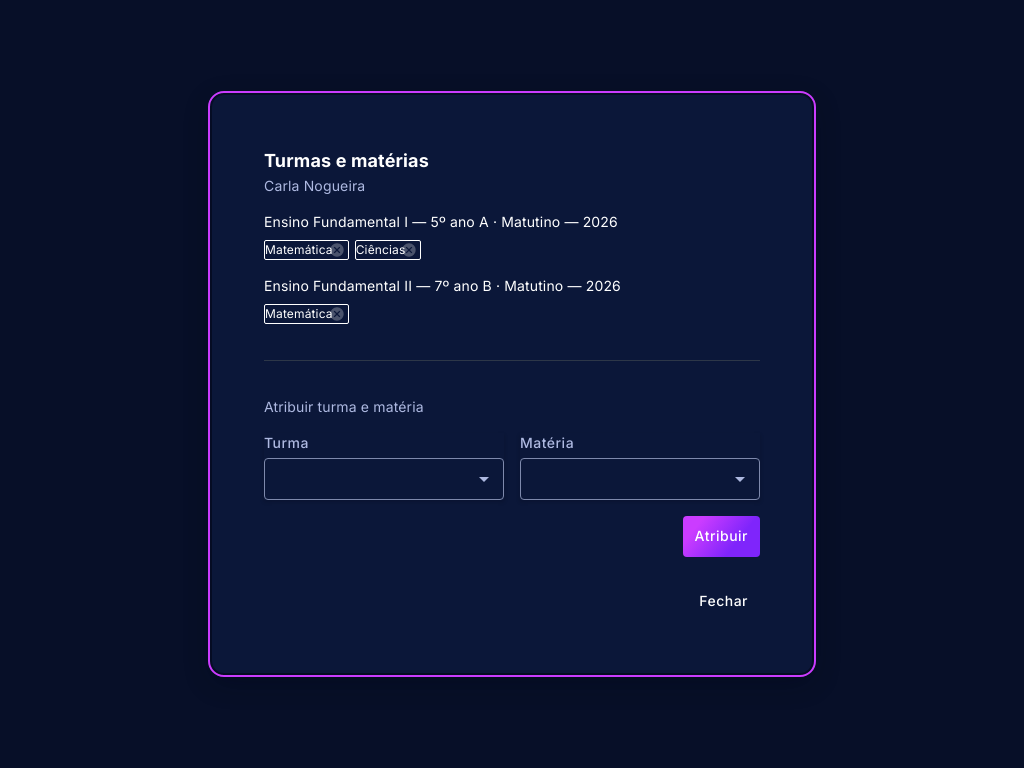
it: TeacherAssignmentsDialog › removes a subject and drops the class once it holds none
// 7º ano B holds a single subject, so removing it removes the class from the list.
Click the 3rd icon with test id "CancelIcon": (337, 314) top-left (329, 306), bottom-right (345, 322)
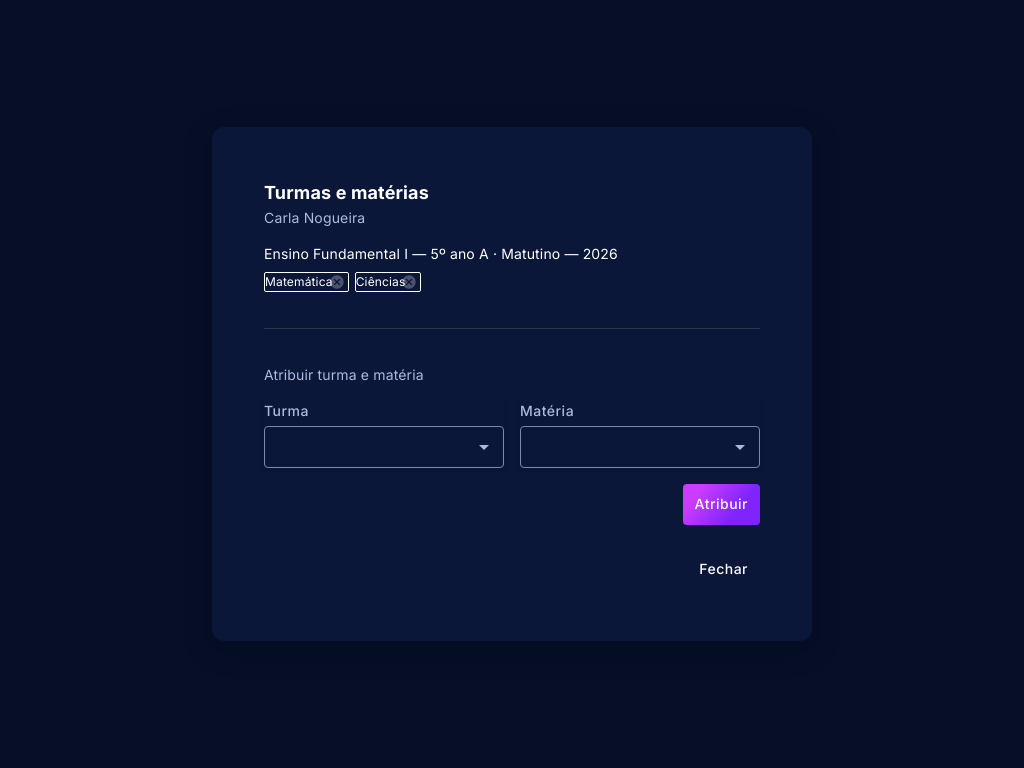
Expected: the text "Ensino Fundamental I — 5º ano A · Matutino — 2026" is shown, top-left (264, 244), bottom-right (618, 262)
Expected: the text "Ensino Fundamental II — 7º ano B · Matutino — 2026" is gone
